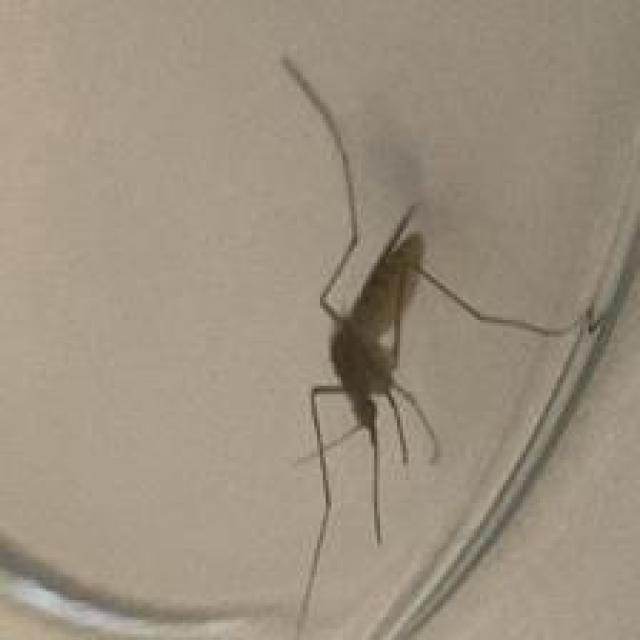Culex: (270, 51, 601, 640)
